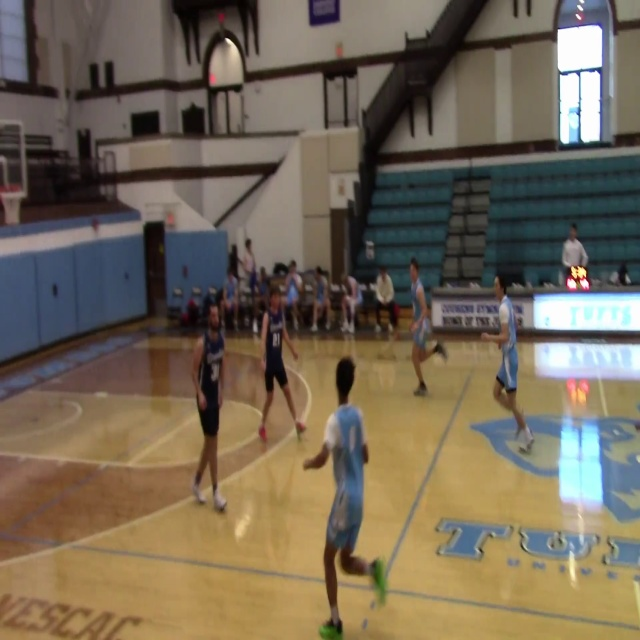Basketball: (341, 555, 368, 576)
